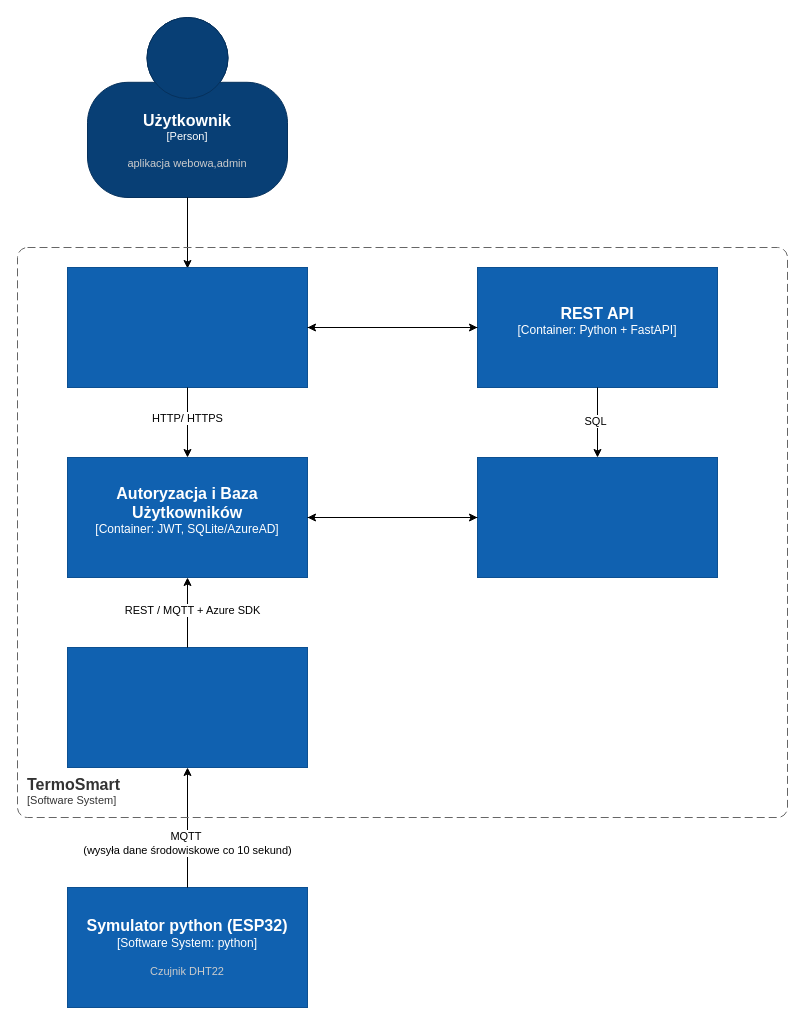
Image size: 805x1025. Some labels were removed from this diagram. The centre of each missing label's shape, as x and y in pixels:
"Azure IoT Hub [Container: REST / MQTT + Azure SDK]" goes at pixel 187 707.
"Baza danych [Container: Azure Blob Storage]" goes at pixel 597 517.
"Frontend Webowy [Container: JS/HTML/CSS]" goes at pixel 187 327.
